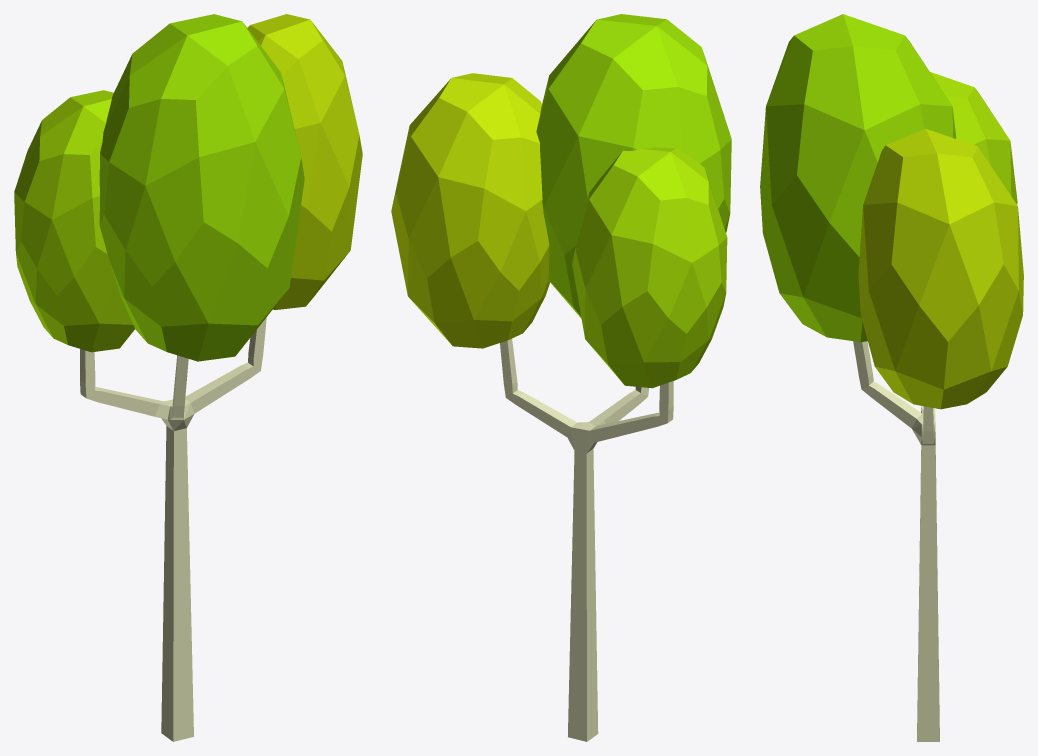
The model's file is littleZazakTree.glb.
3 views of the same model, side by side, from view 1: azimuth 30°, elevation 25°; view 2: azimuth 150°, elevation 25°; view 3: azimuth 270°, elevation 25° (orthographic). The views are drawn at different scales.
Parts seen in each view (by area): view 1: Cube; view 2: Cube; view 3: Cube.
Boxes of the visible parts, left/top/right/bottom form: Cube: left=14, top=14, right=362, bottom=741; Cube: left=391, top=14, right=731, bottom=741; Cube: left=760, top=14, right=1023, bottom=741.
Size of the model in its own units: 4.77 by 10 by 3.38.
